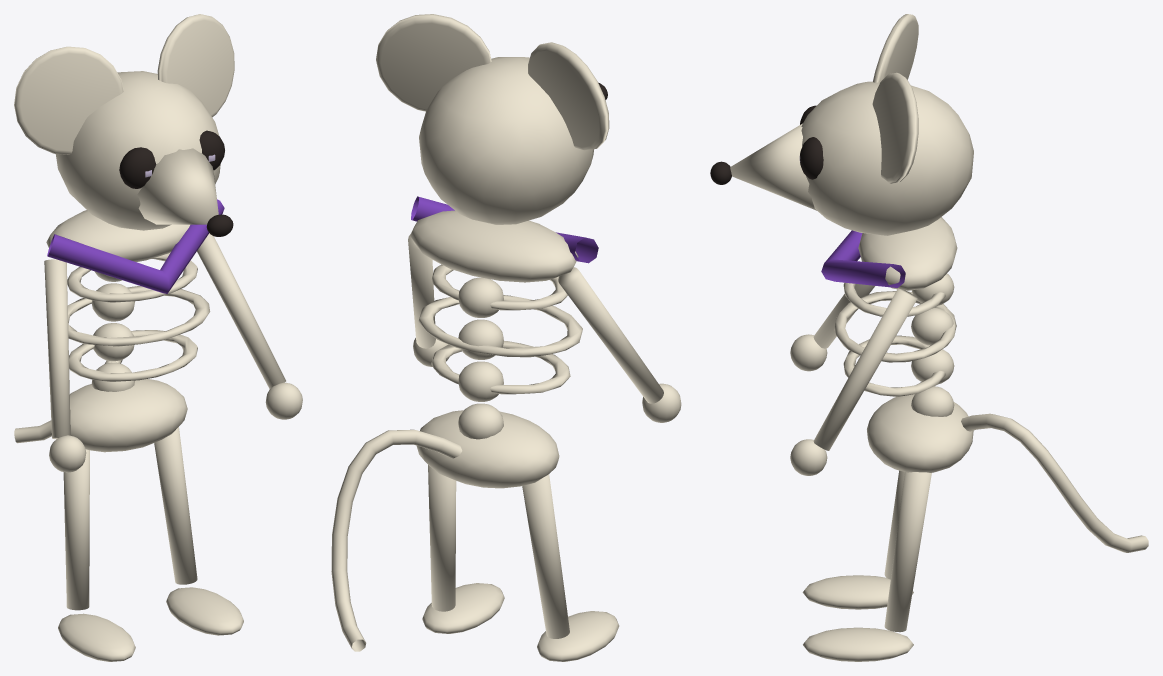
File: Skeleton.fbx
3 renders of one model, left to right at view 1: azimuth 30°, elevation 25°; view 2: azimuth 150°, elevation 25°; view 3: azimuth 270°, elevation 25°, orthographic. The views are drawn at different scales.
Visible parts, largest first — view 1: Skeleton; view 2: Skeleton; view 3: Skeleton.
Part boxes in pixels (x1,y1,x2,y2): Skeleton: [14, 14, 302, 661]; Skeleton: [331, 14, 681, 661]; Skeleton: [710, 14, 1148, 661].
Bounding box in the file's own units: 0.46 × 1.04 × 0.7076.
